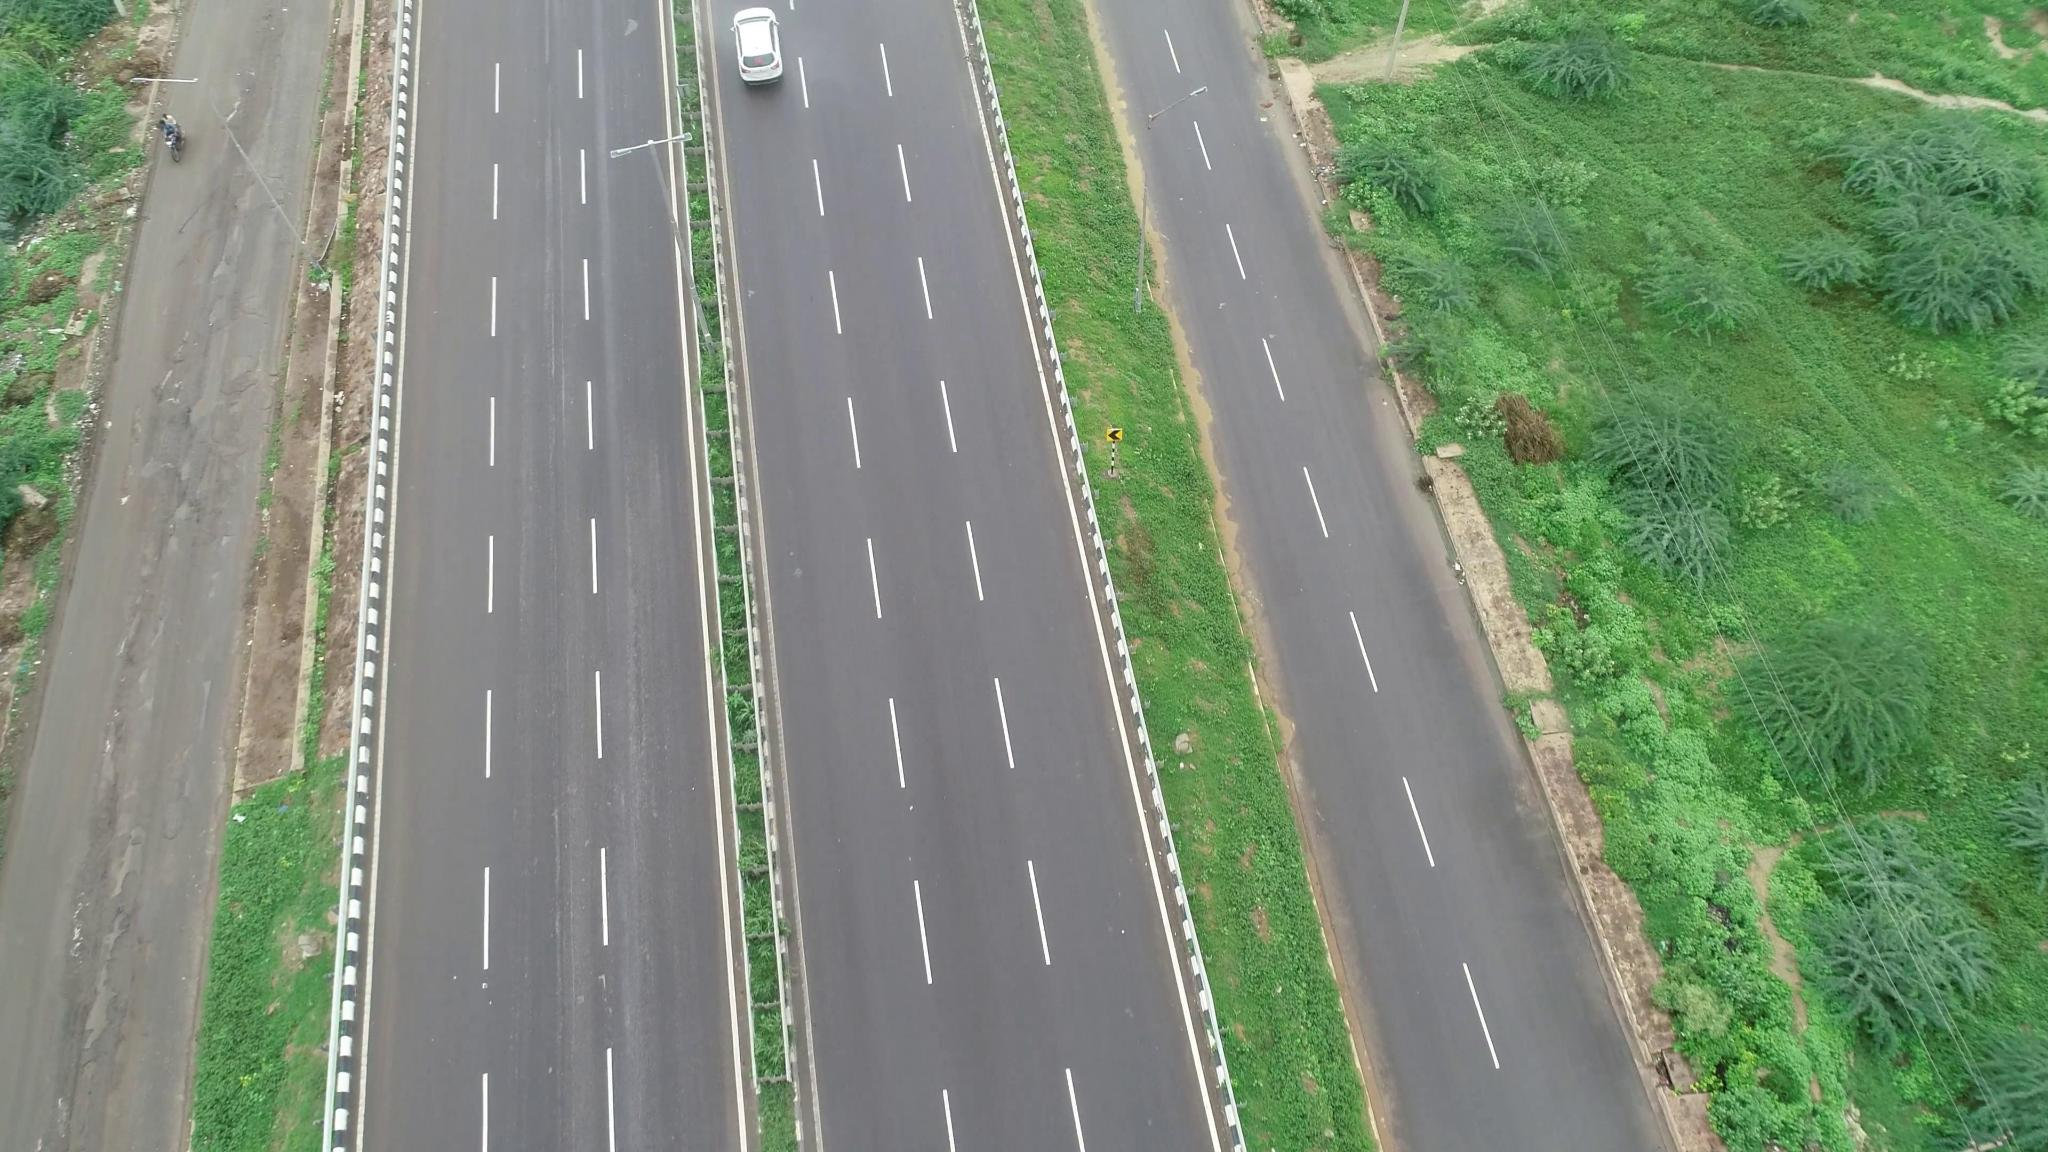Ravelling: (527, 111, 580, 454), (617, 549, 671, 821), (540, 762, 577, 1025)
